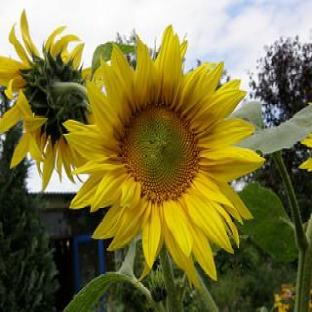sunflower: (63, 26, 312, 312)
